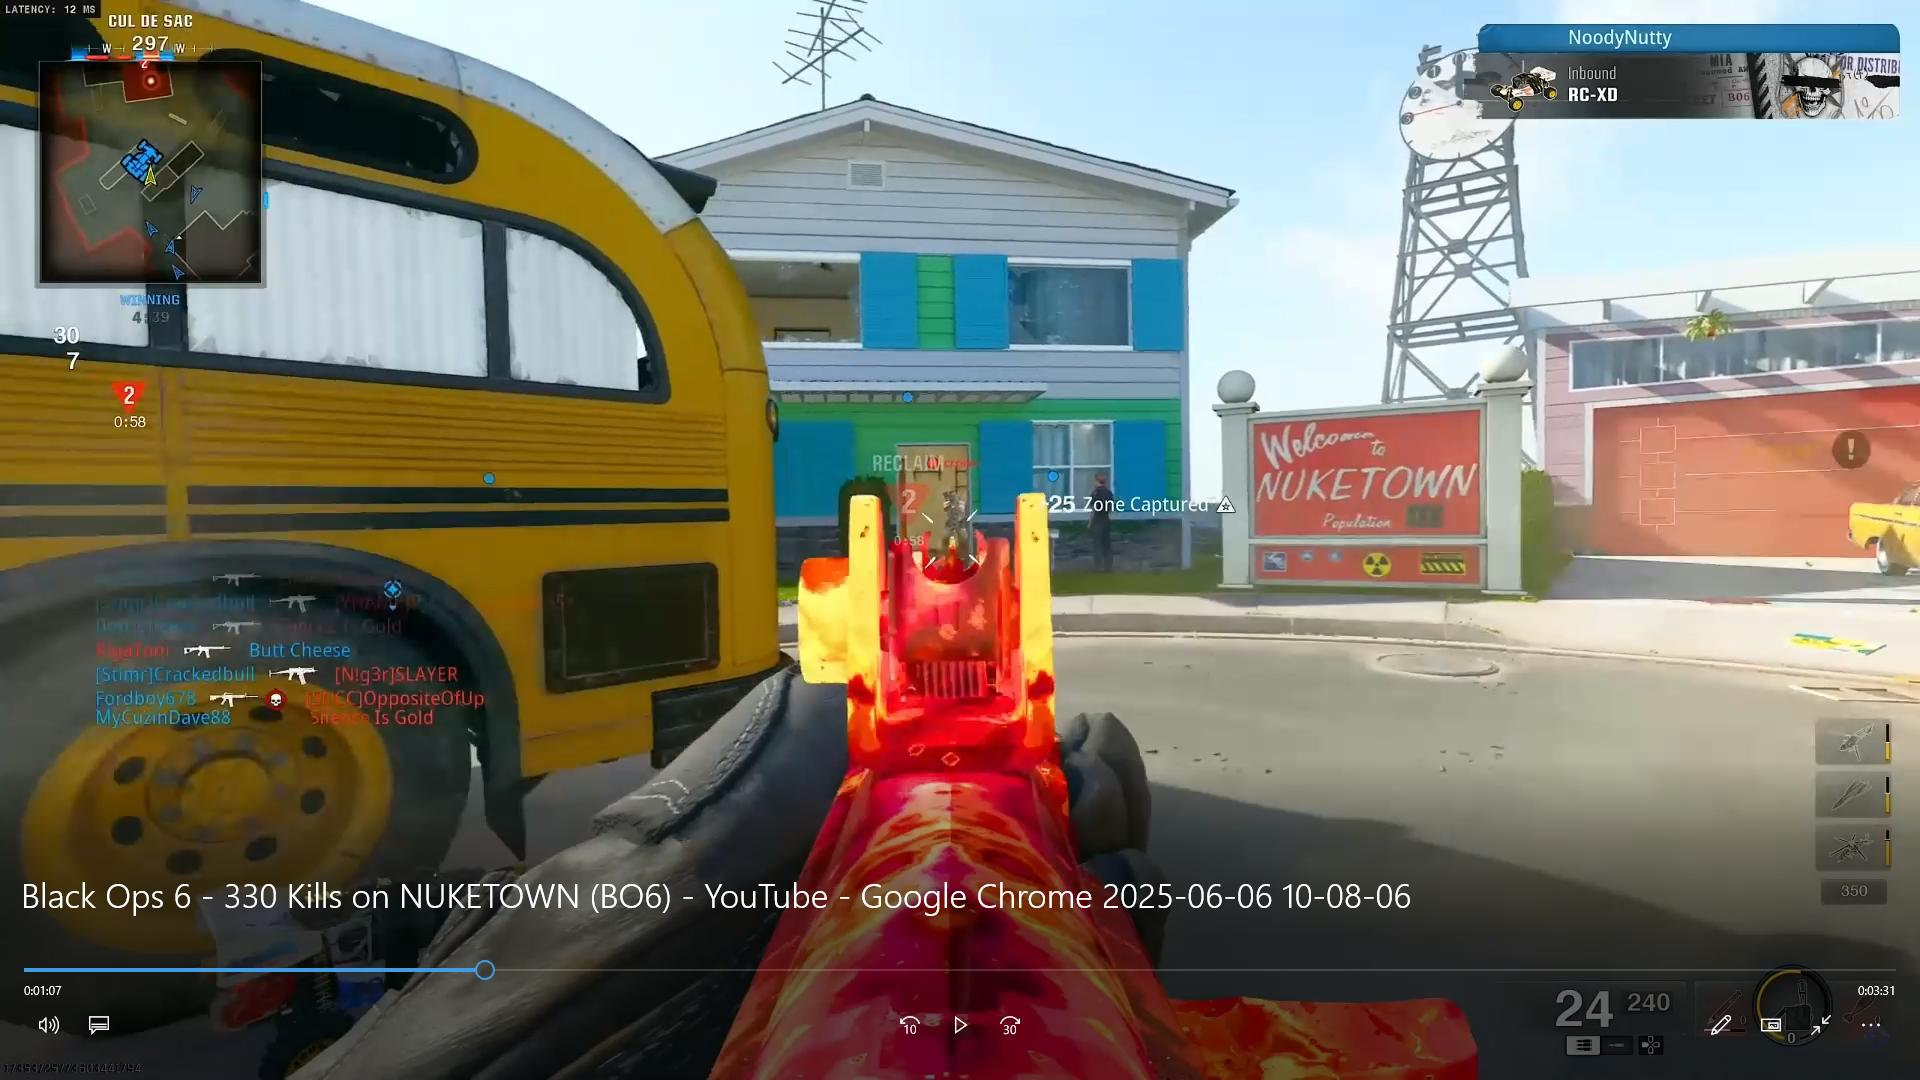Enemy: (943, 485, 968, 541)
